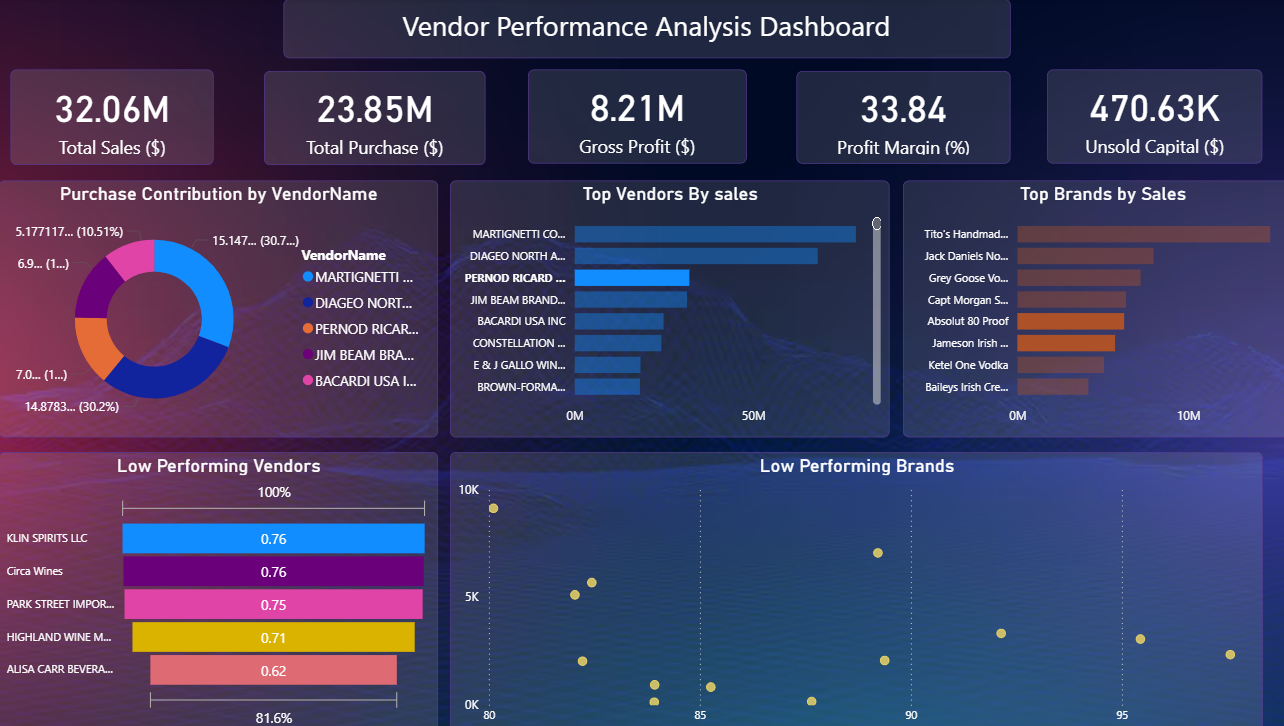

What the dashboard file says about the page in this screenshot:
{"tool":"powerbi","page":{"name":"Page 1","canvas":[1280,720],"ordinal":0},"visuals":[{"type":"card","fields":{"Values":["KPI's.Total Sales ($)"]},"box":[16.3,68.3,198.9,93.5],"z":0},{"type":"textbox","box":[283.5,0,711,57.9],"z":1000},{"type":"barChart","title":"Top Vendors By sales","fields":{"Category":["vendor_sales_data.VendorName"],"Y":["KPI's.Total Sales ($)"]},"box":[446.3,176.9,429.8,251.3],"z":2000},{"type":"card","fields":{"Values":["KPI's.Total Purchase ($)"]},"box":[264.2,69.8,216.7,92],"z":3000},{"type":"card","fields":{"Values":["KPI's.Gross Profit ($)"]},"box":[522.5,68.3,213.7,92],"z":4000},{"type":"card","fields":{"Values":["KPI's.Profit Margin (%)"]},"box":[785.2,69.8,209.3,90.5],"z":5000},{"type":"card","fields":{"Values":["KPI's.Unsold Capital ($)"]},"box":[1030.1,68.3,210.8,92],"z":6000},{"type":"donutChart","title":" Purchase Contribution by VendorName","fields":{"Category":["Purchase ContriBution.VendorName"],"Y":["Sum(Purchase ContriBution.Purchase Contribution)"]},"box":[5,176.9,429.8,251.3],"z":7000},{"type":"barChart","title":"Top Brands by Sales","fields":{"Y":["Sum(vendor_sales_data.TotalSalesDollars)"],"Category":["vendor_sales_data.Description"]},"box":[888.8,177.3,390.5,251.2],"z":7001},{"type":"funnel","title":"Low Performing Vendors","fields":{"Y":["Sum(Low Turnover Vendor.Average STock Turnover)"],"Category":["Low Turnover Vendor.VendorName"]},"box":[5,443,429.8,277.7],"z":7002},{"type":"scatterChart","title":"Low Performing Brands","fields":{"X":["Avg(vendor_sales_data.ProfitMargin)"],"Y":["Sum(vendor_sales_data.TotalSalesDollars)"],"Category":["vendor_sales_data.Description"]},"box":[446.3,443,795.1,277.7],"z":7003}]}

Visuals, with their boxes in screenshot pixels (x1, y1, x2, y2), scaled from the page's 1280x720 canvas onto the 1284x726 screenshot:
card - KPI's.Total Sales ($): <bbox>16, 69, 216, 163</bbox>
textbox: <bbox>284, 0, 998, 58</bbox>
"Top Vendors By sales" barChart: <bbox>448, 178, 879, 432</bbox>
card - KPI's.Total Purchase ($): <bbox>265, 70, 482, 163</bbox>
card - KPI's.Gross Profit ($): <bbox>524, 69, 739, 162</bbox>
card - KPI's.Profit Margin (%): <bbox>788, 70, 998, 162</bbox>
card - KPI's.Unsold Capital ($): <bbox>1033, 69, 1245, 162</bbox>
" Purchase Contribution by VendorName" donutChart: <bbox>5, 178, 436, 432</bbox>
"Top Brands by Sales" barChart: <bbox>892, 179, 1283, 432</bbox>
"Low Performing Vendors" funnel: <bbox>5, 447, 436, 725</bbox>
"Low Performing Brands" scatterChart: <bbox>448, 447, 1245, 725</bbox>
